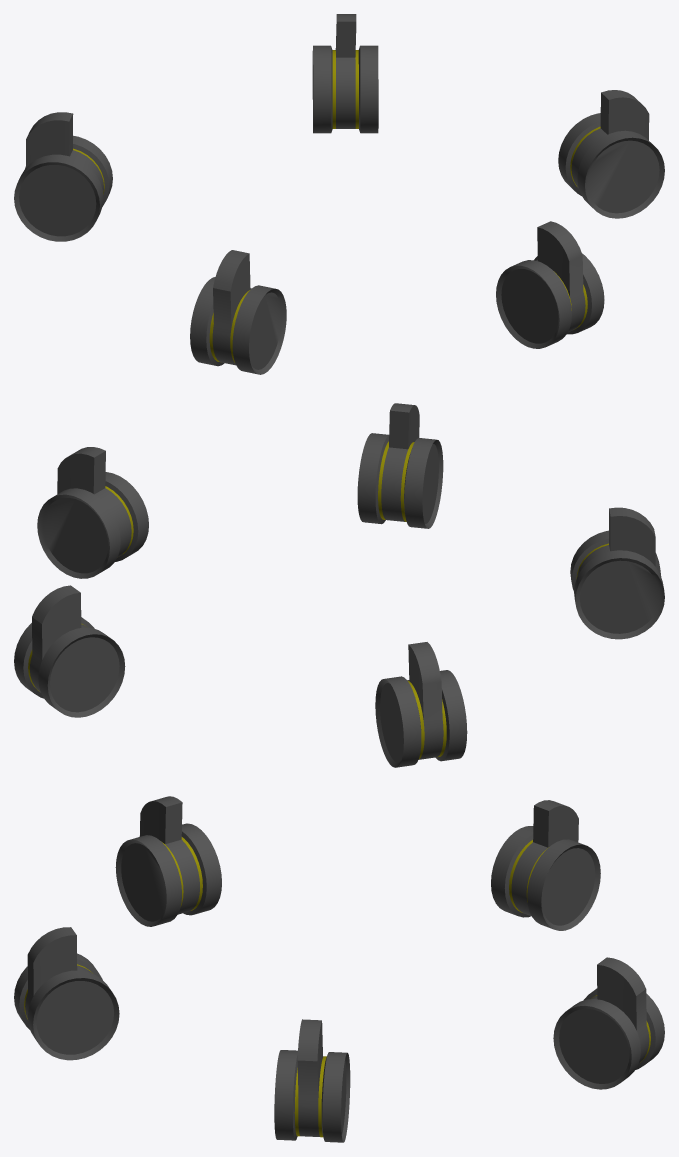
The model's file is ChairWheels.fbx.
3 views of the same model, one above another, from view 1: azimuth 30°, elevation 25°; view 2: azimuth 150°, elevation 25°; view 3: azimuth 270°, elevation 25° (orthographic). The views are drawn at different scales.
Parts seen in each view (by area): view 1: Wheels; view 2: Wheels; view 3: Wheels.
Part boxes in pixels (<box>): Wheels: <box>14,14,664,374</box>; Wheels: <box>14,403,664,767</box>; Wheels: <box>14,796,664,1142</box>.
Bounding box in the file's own units: 95.47 × 19.34 × 98.66.
